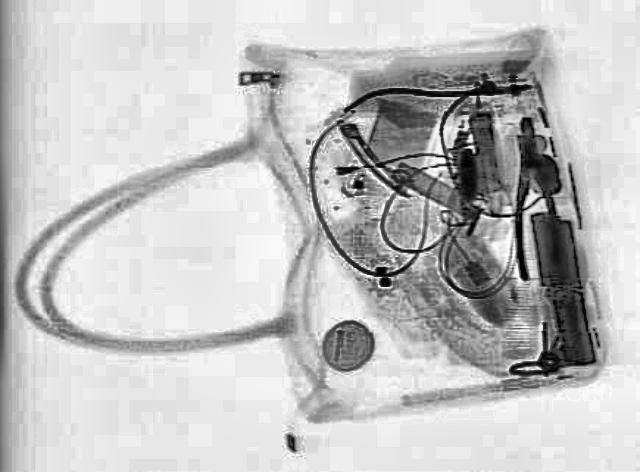Pliers: (502, 115, 562, 279)
